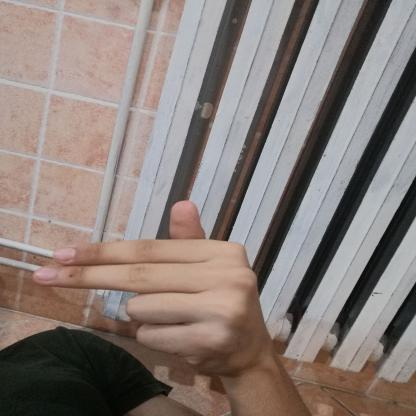GHAYN: (18, 194, 281, 382)
